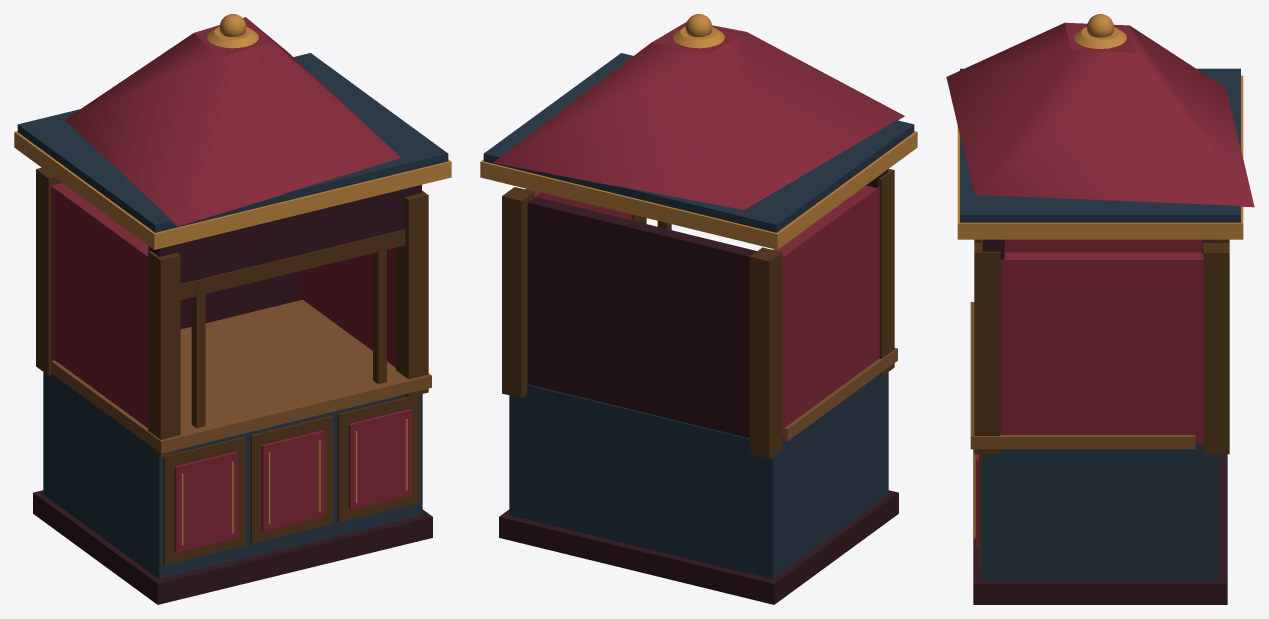
The model's file is mia-ticket_booth.glb.
3 views of the same model, side by side, from view 1: azimuth 30°, elevation 25°; view 2: azimuth 150°, elevation 25°; view 3: azimuth 270°, elevation 25° (orthographic). The views are drawn at different scales.
Visible parts, largest first — view 1: Body_velvet, Body_wood, Body_navy-seat, Body_dark, Body_oak, Body_brass; view 2: Body_velvet, Body_navy-seat, Body_dark, Body_wood, Body_brass, Body_oak; view 3: Body_velvet, Body_navy-seat, Body_wood, Body_dark, Body_brass, Body_oak.
Boxes of the visible parts, <box> form: Body_velvet: <box>51,17,411,552</box>; Body_wood: <box>36,167,428,564</box>; Body_navy-seat: <box>17,53,448,579</box>; Body_dark: <box>33,185,432,604</box>; Body_oak: <box>51,299,431,453</box>; Body_brass: <box>14,14,451,545</box>; Body_velvet: <box>493,22,904,436</box>; Body_navy-seat: <box>483,53,914,579</box>; Body_dark: <box>499,169,898,604</box>; Body_wood: <box>502,169,894,458</box>; Body_brass: <box>480,14,917,249</box>; Body_oak: <box>784,348,897,441</box>; Body_velvet: <box>946,22,1254,547</box>; Body_navy-seat: <box>960,68,1240,580</box>; Body_wood: <box>974,239,1229,563</box>; Body_dark: <box>973,239,1227,604</box>; Body_brass: <box>957,14,1243,538</box>; Body_oak: <box>970,302,1195,449</box>.
Size of the model in its own units: 2.01 by 3.3 by 1.77.
